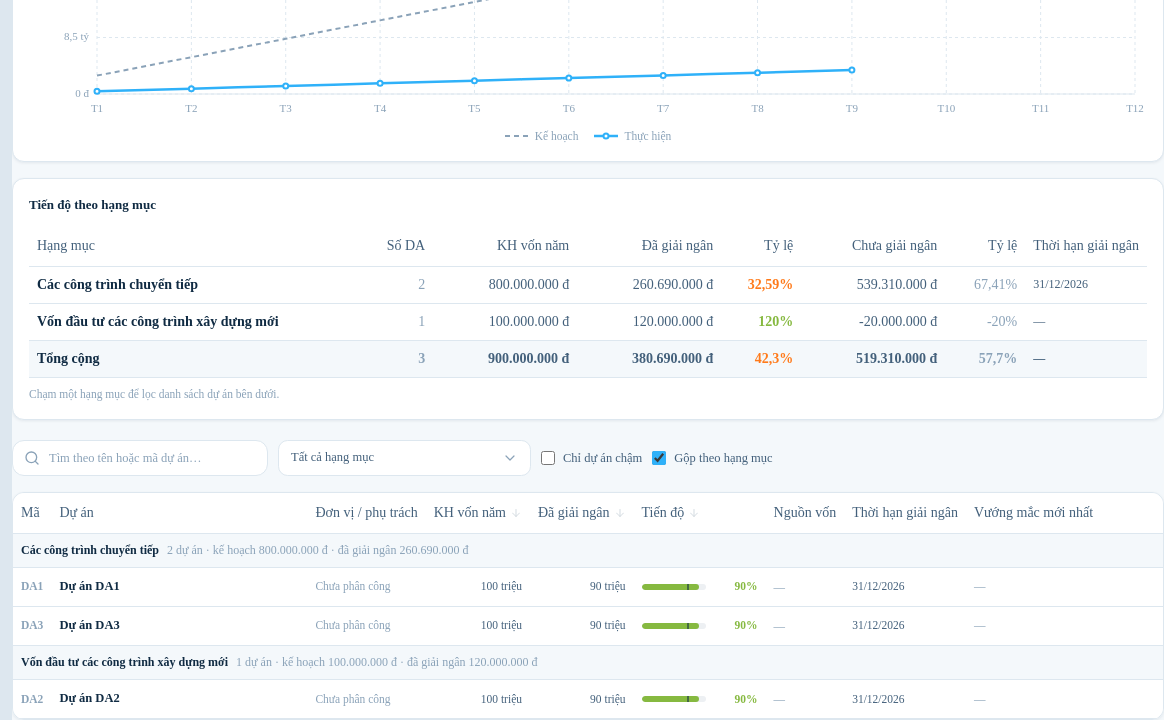
Test case: register with the year summary › `Chỉ dự án chậm` with no late project: good news, not the empty-year invitation
(page scrolled)
Click the checkbox with id "loc-chi-du-an-cham" at (548, 458), box [541,451,555,465]
(page scrolled)
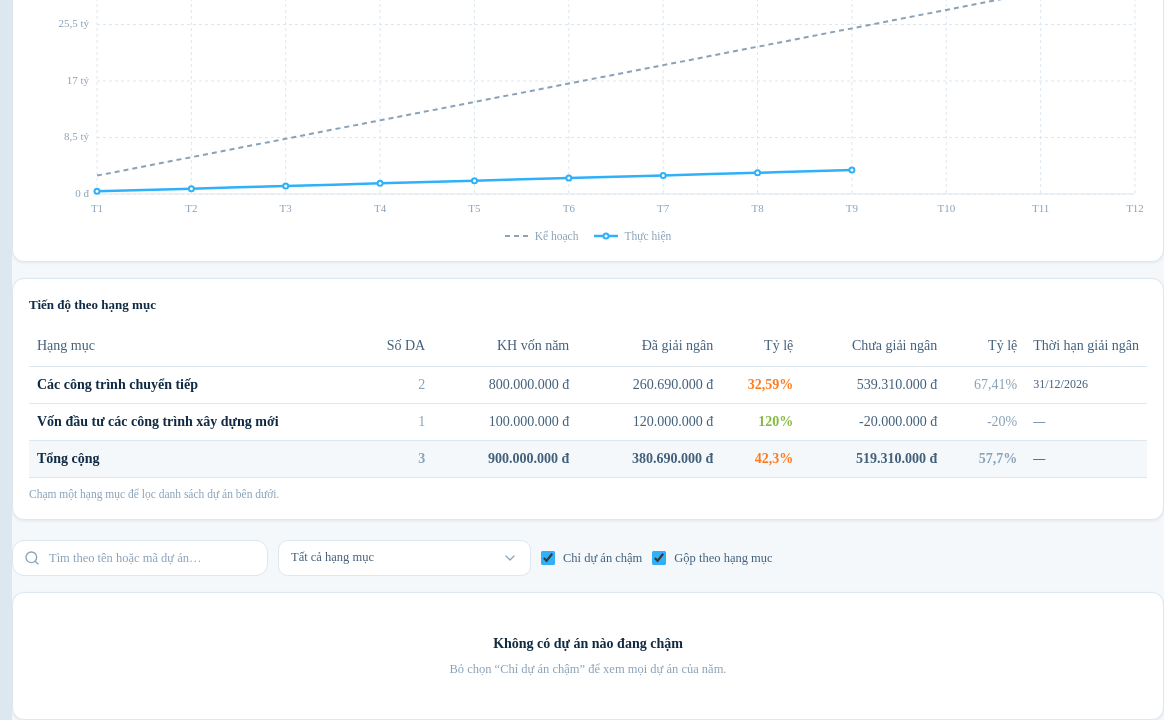
Expected: the text "Không có dự án nào đang chậm" is shown, [493,636,683,651]
